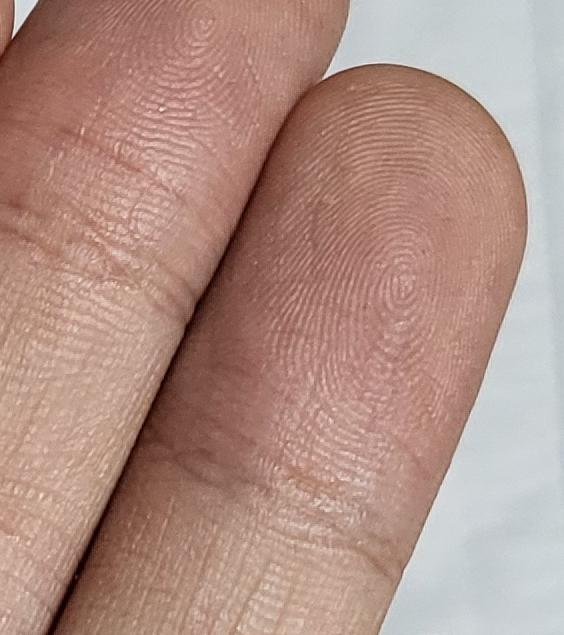Fingerprints: (149, 64, 529, 565)
